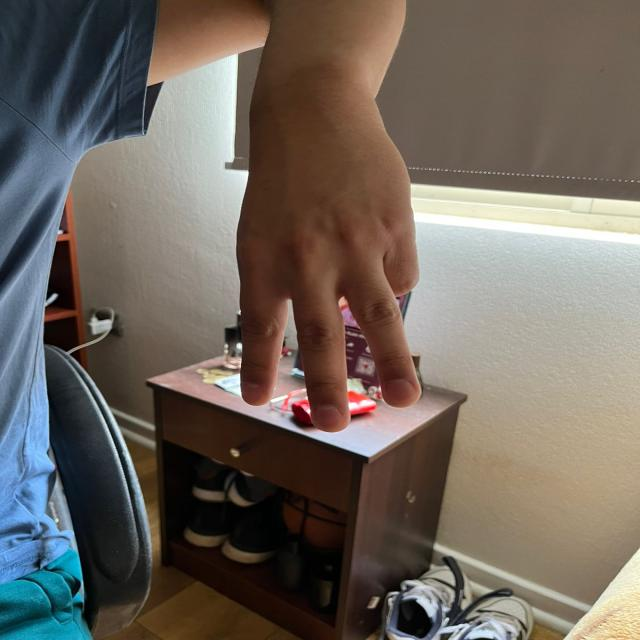M: (228, 85, 440, 434)
